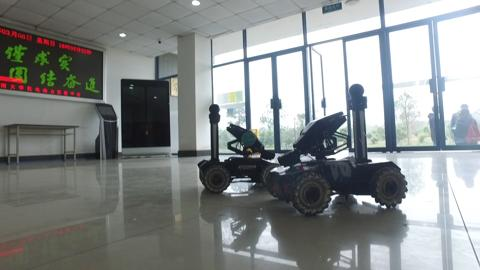chariot: (267, 82, 408, 219), (194, 100, 297, 195)
